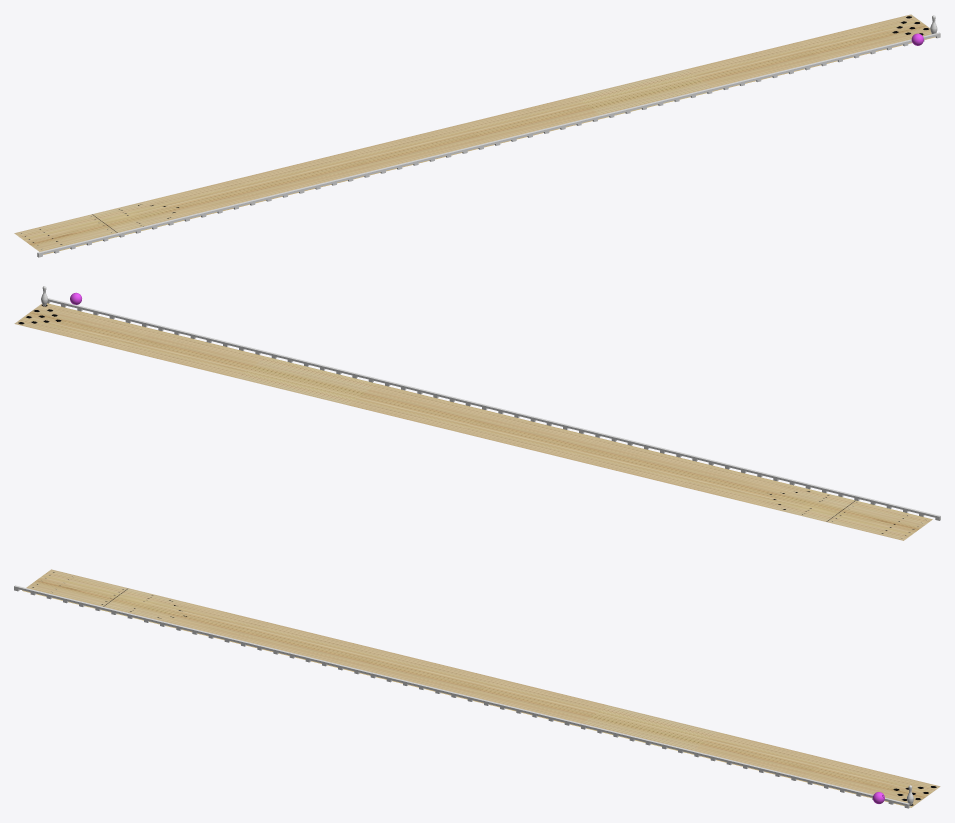
Rendered from bowling materialen.fbx.
The picture shows the model from 3 angles, top to bottom: view 1: azimuth 30°, elevation 25°; view 2: azimuth 150°, elevation 25°; view 3: azimuth 330°, elevation 25°; orthographic projection.
Parts seen in each view (by area): view 1: Plane, Cube; view 2: Plane, Cube; view 3: Plane, Cube.
Part boxes in pixels (x1,y1,x2,y2): Plane: [14, 14, 935, 254]; Cube: [37, 32, 940, 257]; Plane: [14, 303, 932, 540]; Cube: [47, 298, 940, 520]; Plane: [22, 569, 940, 807]; Cube: [14, 585, 909, 808].
Size of the model in its own units: 1843 by 38.07 by 133.
